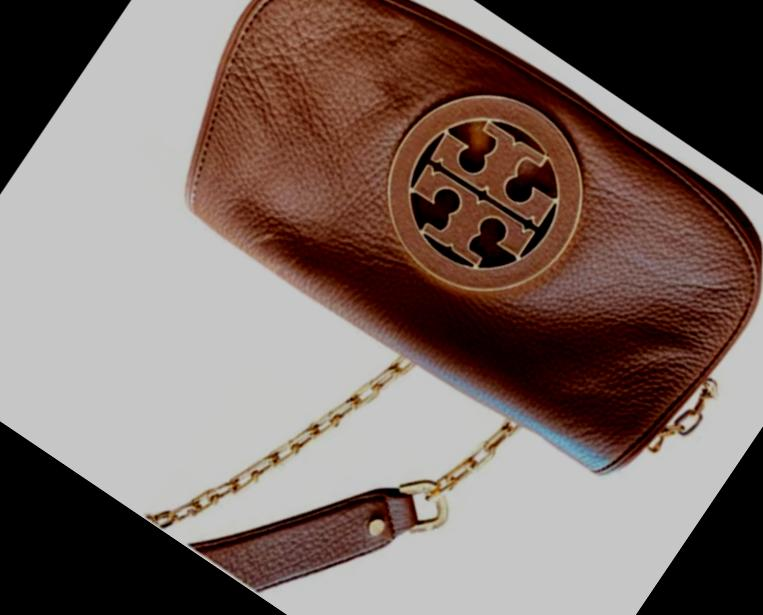TORY-BURCH: (347, 54, 620, 327)
